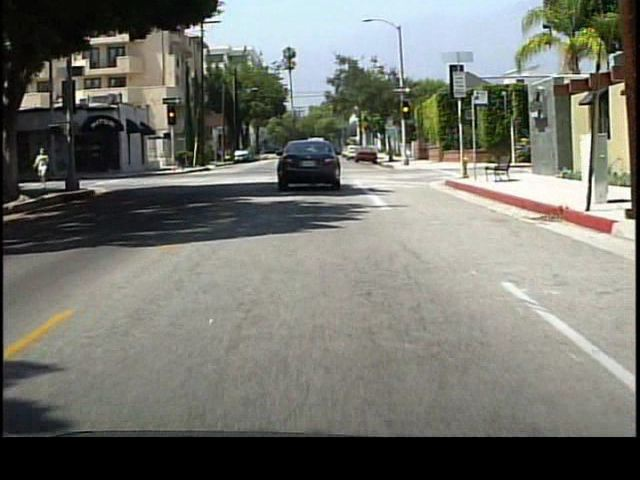person: (37, 145, 56, 190)
